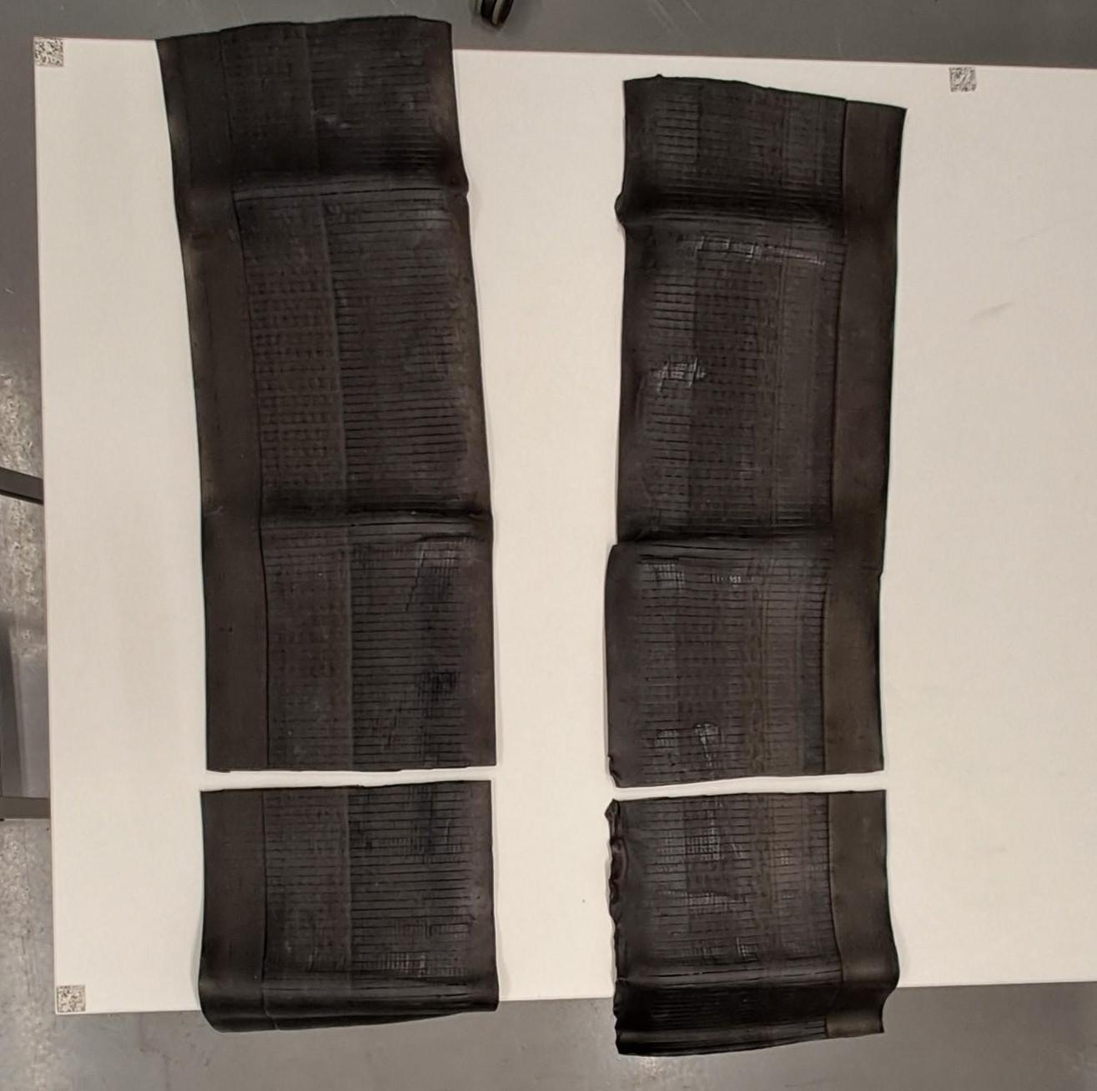cut_edge: (613, 770, 884, 800), (199, 767, 494, 790)
